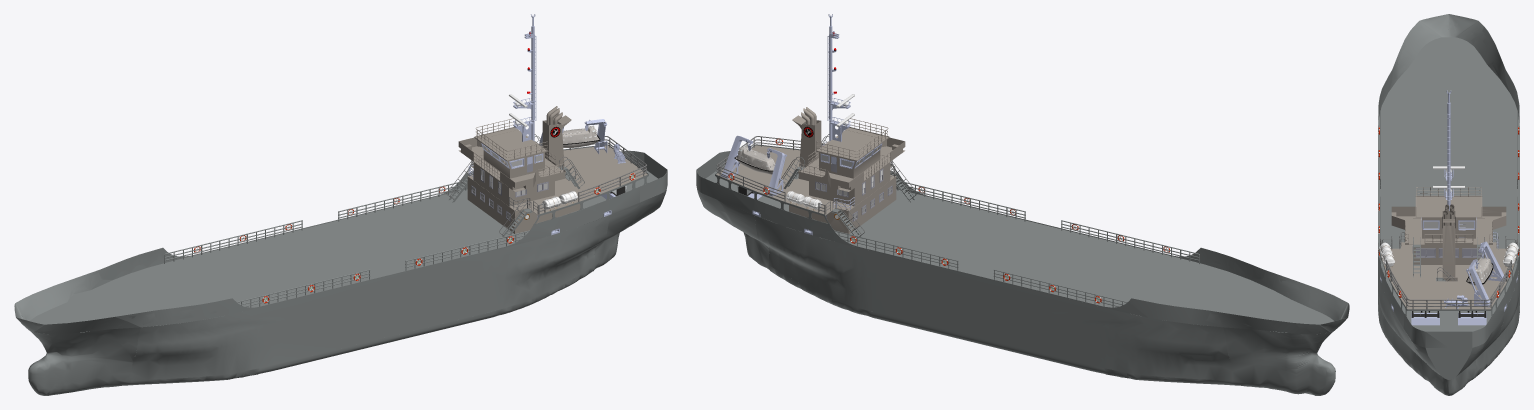
Rendered from cargo-ship.glb.
3 renders of one model, left to right at view 1: azimuth 30°, elevation 25°; view 2: azimuth 150°, elevation 25°; view 3: azimuth 270°, elevation 25°, orthographic.
Parts seen in each view (by area): view 1: Cargo ship CAD; view 2: Cargo ship CAD; view 3: Cargo ship CAD.
Part boxes in pixels (left/top/right/bottom): Cargo ship CAD: left=14, top=14, right=667, bottom=395; Cargo ship CAD: left=696, top=14, right=1349, bottom=395; Cargo ship CAD: left=1378, top=14, right=1519, bottom=395.
Bounding box in the file's own units: 11 × 4.32 × 2.07.
